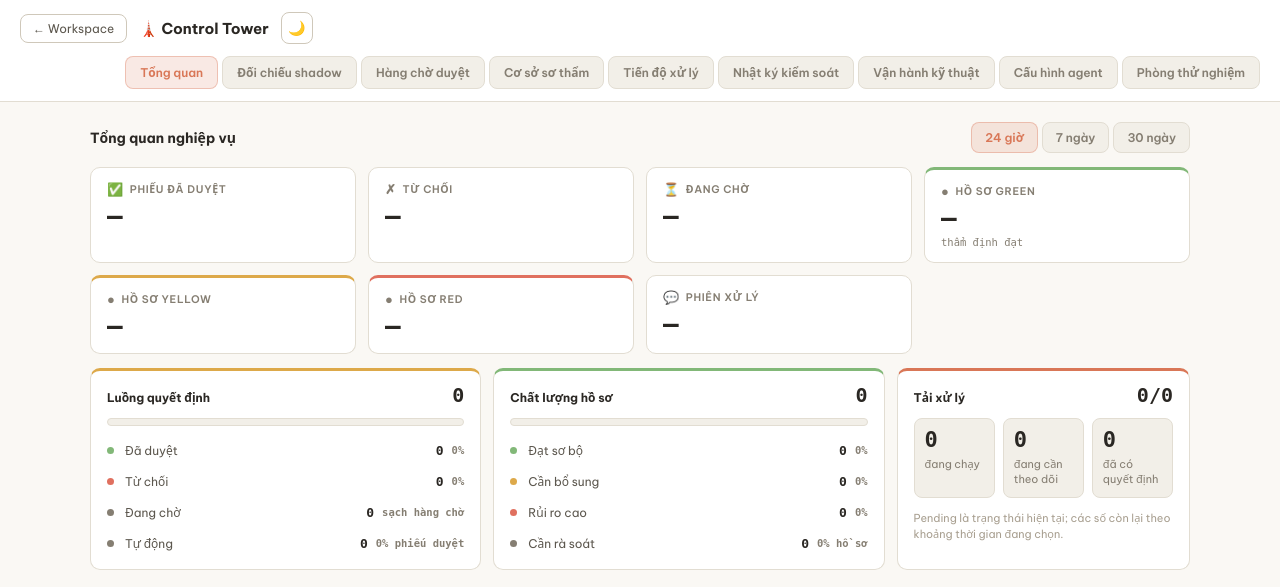
ControlTower › DF-B-07: Huỷ → đóng ô lý do, không gửi
What coordinates should you click on to do the following:
click the button "Hàng chờ duyệt"
I would click on:
 (423, 72)
Its box is [361,56,485,89].
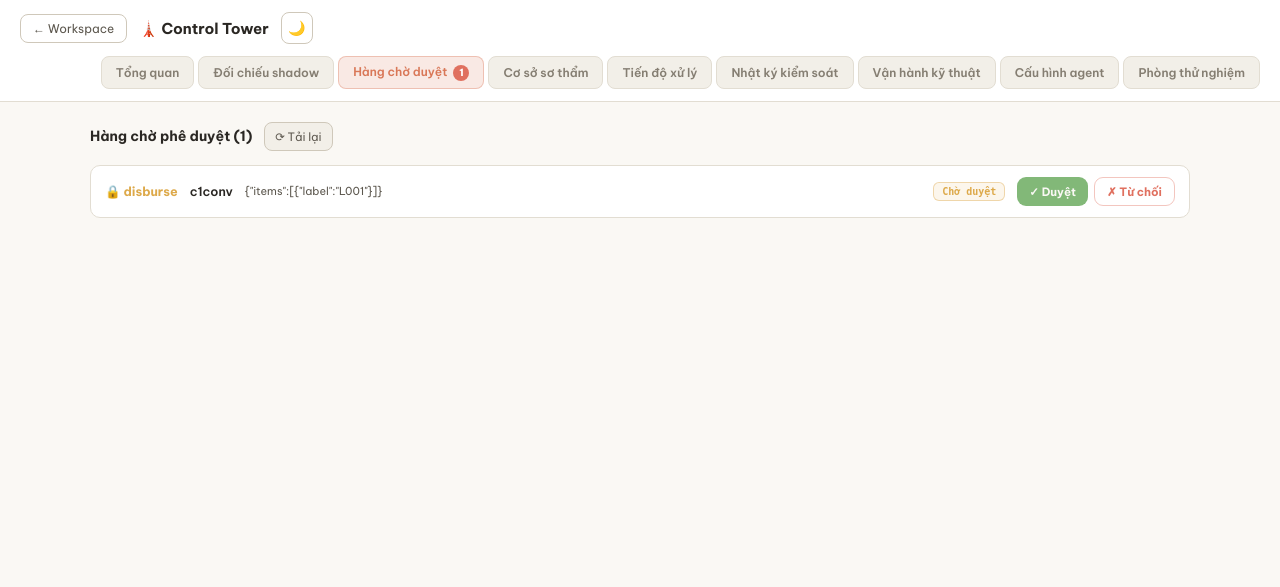
Check: the element with test id "queue-row-a1" is shown, box [90,165,1190,218]
What coordinates should you click on to do the following:
click the button with test id "reject-open-a1"
I would click on:
 (1135, 191)
Its box is [1094,177,1175,206].
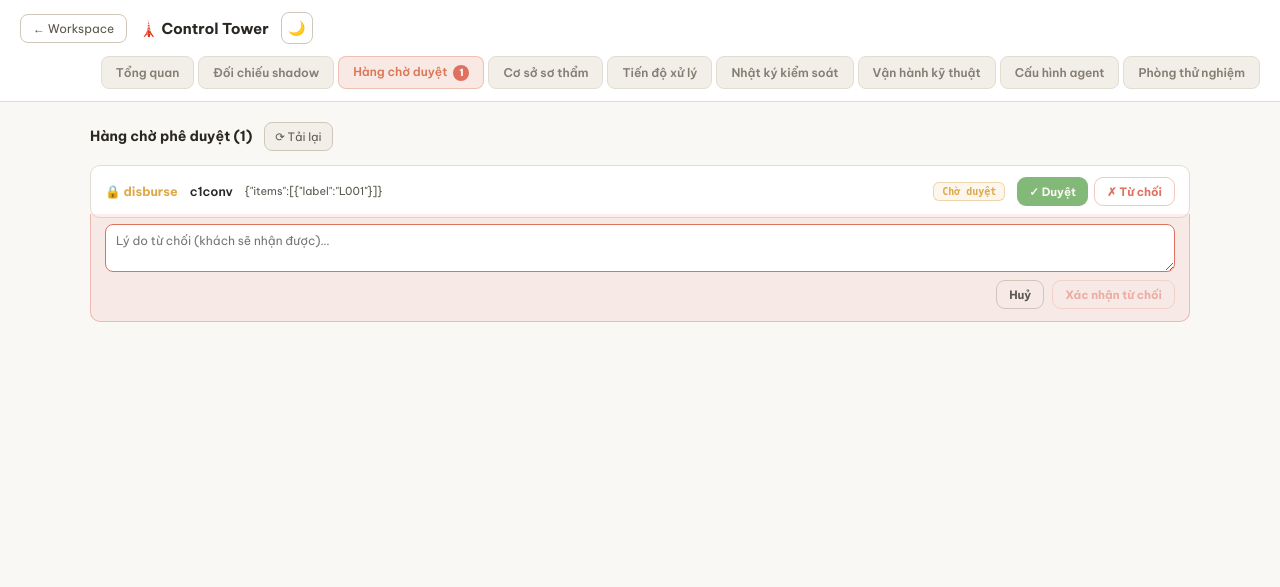
What coordinates should you click on to do the following:
click the button "Huỷ"
I would click on:
 (1020, 294)
Its box is [996,280,1044,309].
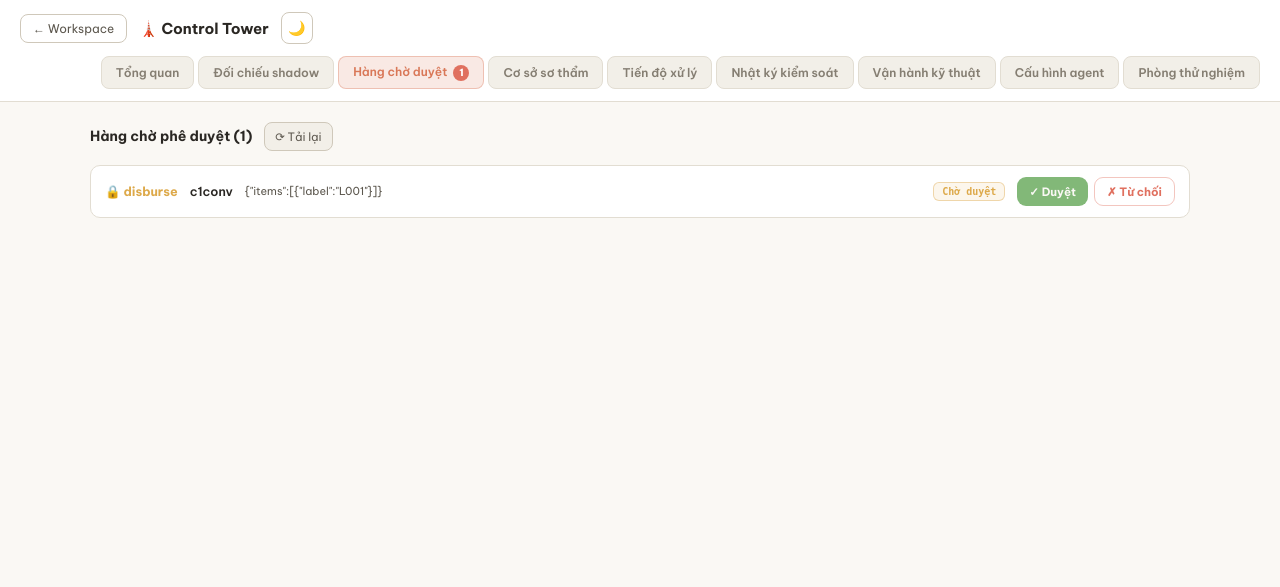
Check: the element with test id "reject-panel-a1" is gone
